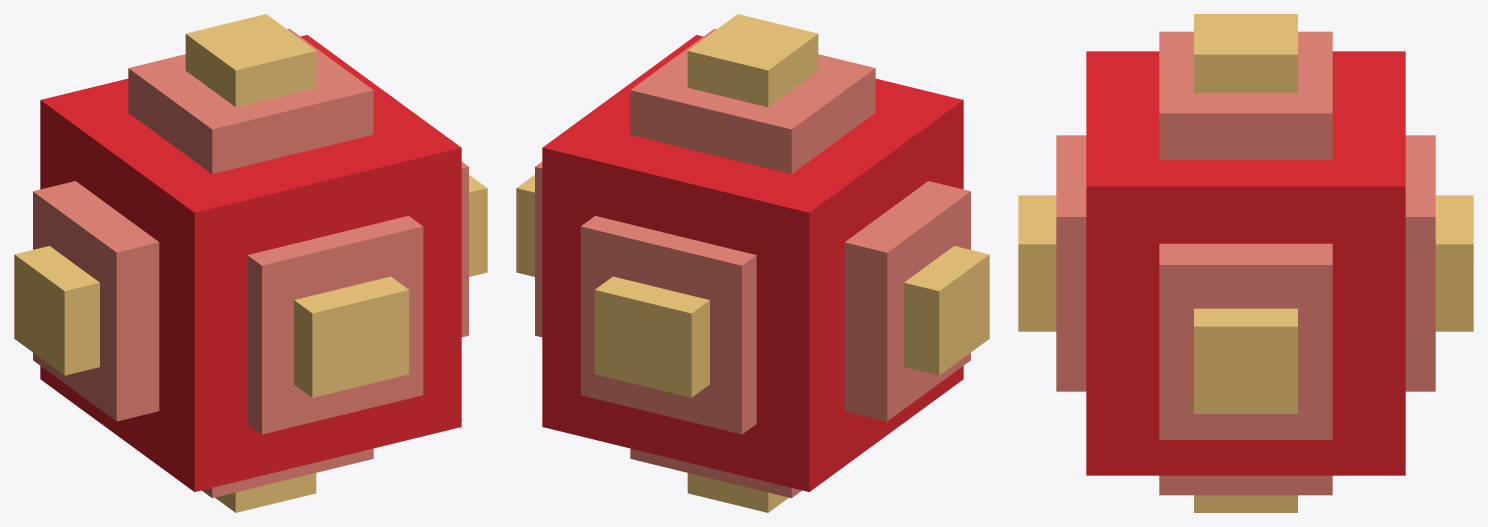
The model's file is obstacle.glb.
3 renders of one model, left to right at view 1: azimuth 30°, elevation 25°; view 2: azimuth 150°, elevation 25°; view 3: azimuth 270°, elevation 25°, orthographic. The views are drawn at different scales.
Visible parts, largest first — view 1: Cube, Cube.002, Cube.001, Cube.003, Cube.005, Cube.004, Cube.006; view 2: Cube, Cube.002, Cube.001, Cube.003, Cube.005, Cube.004, Cube.006; view 3: Cube, Cube.003, Cube.001, Cube.002, Cube.006, Cube.005, Cube.004.
Part boxes in pixels (x1,y1,x2,y2): Cube: (40,35,461,491); Cube.002: (247,216,423,434); Cube.001: (128,28,373,498); Cube.003: (33,161,468,421); Cube.005: (294,276,409,397); Cube.004: (185,14,316,512); Cube.006: (14,175,487,375); Cube: (542,35,963,491); Cube.002: (580,216,756,434); Cube.001: (630,28,875,498); Cube.003: (535,161,970,421); Cube.005: (594,276,709,397); Cube.004: (687,14,818,512); Cube.006: (516,175,989,375); Cube: (1086,51,1405,475); Cube.003: (1159,243,1332,439); Cube.001: (1159,31,1332,495); Cube.002: (1056,135,1435,391); Cube.006: (1194,308,1297,413); Cube.005: (1018,195,1473,331); Cube.004: (1194,14,1297,512).
Size of the model in its own units: 6.34 by 6.34 by 5.7.
